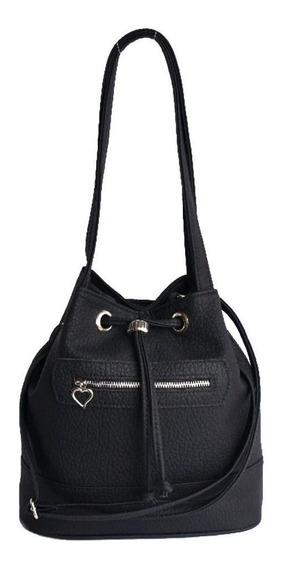cartera: (17, 28, 266, 541)
